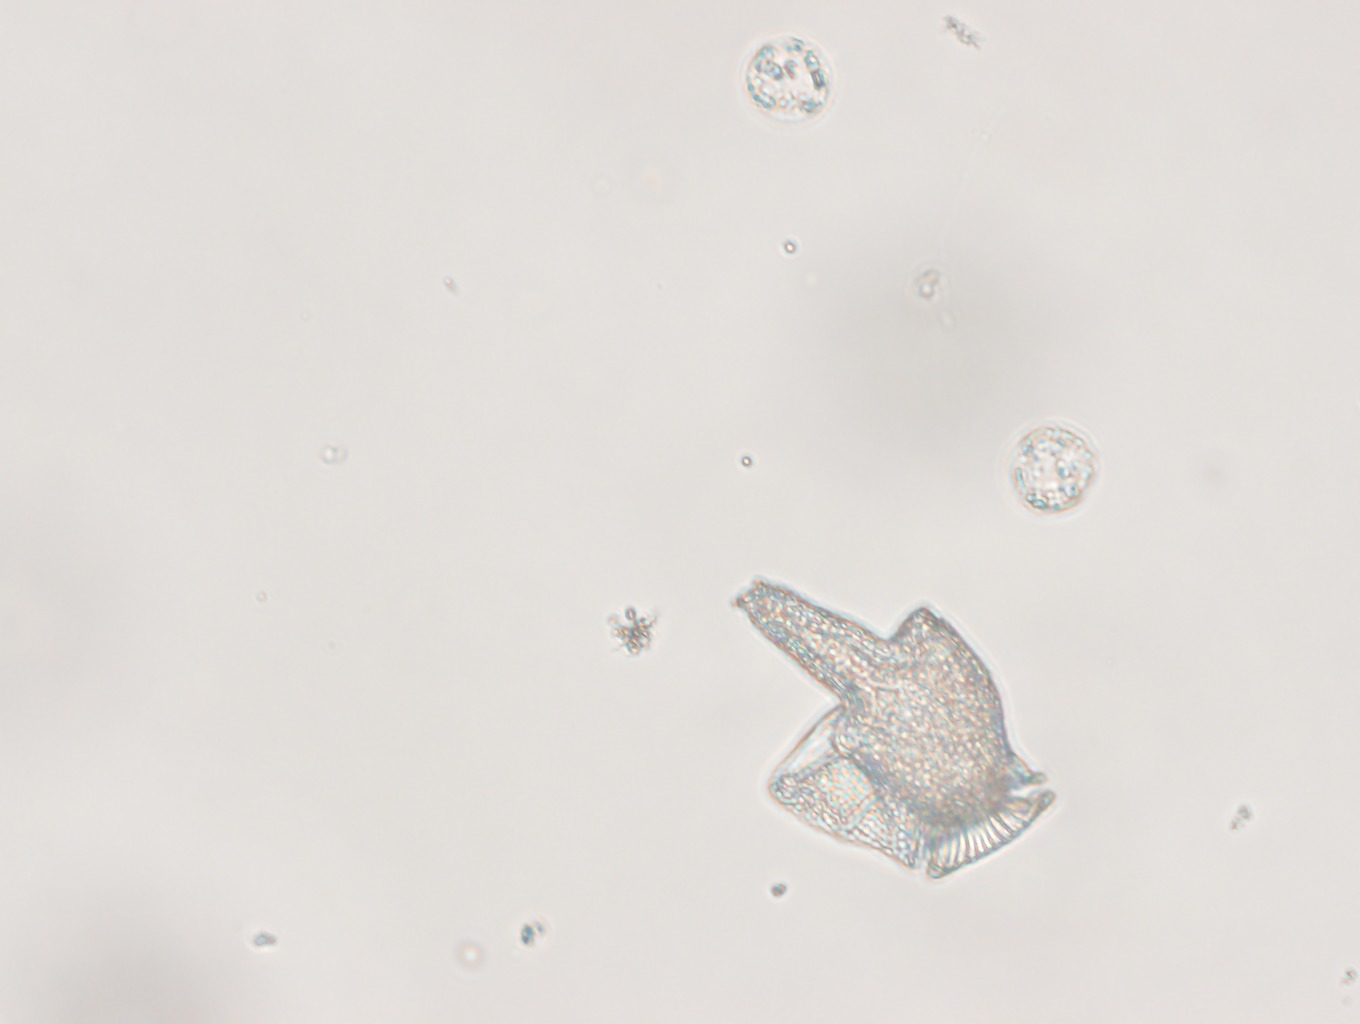dinophysis caudata: (729, 577, 1059, 883)
